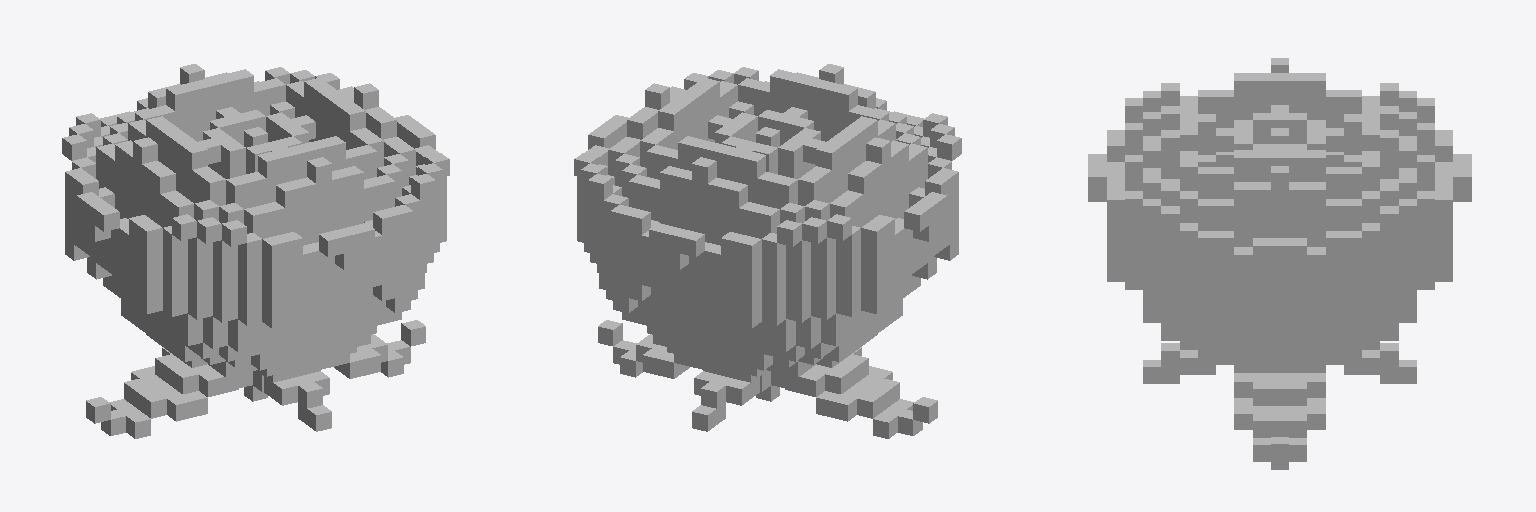
The model's file is rose.obj.
3 renders of one model, left to right at view 1: azimuth 30°, elevation 25°; view 2: azimuth 150°, elevation 25°; view 3: azimuth 270°, elevation 25°, orthographic.
Visible parts, largest first — view 1: object 1; view 2: object 1; view 3: object 1.
Boxes of the visible parts, <box> form: object 1: <box>62,64,449,438</box>; object 1: <box>574,64,961,438</box>; object 1: <box>1088,58,1471,469</box>.
Bounding box in the file's own units: 2.1 × 1.7 × 2.1.